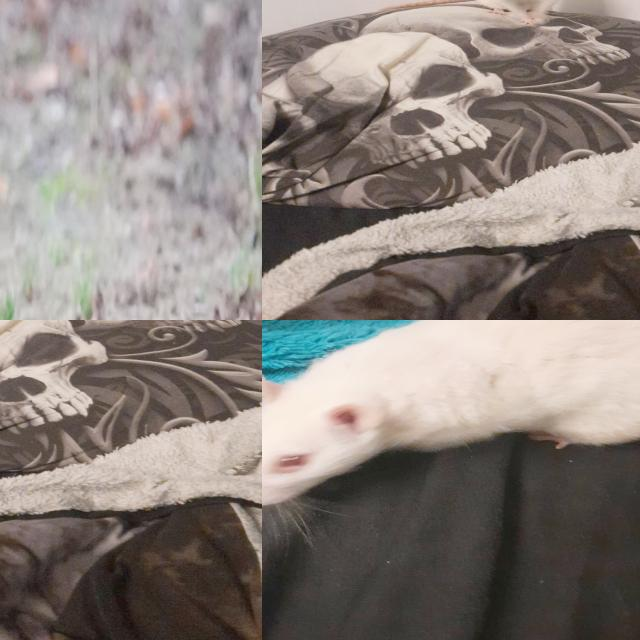rat: (262, 320, 640, 519), (463, 0, 577, 28)
